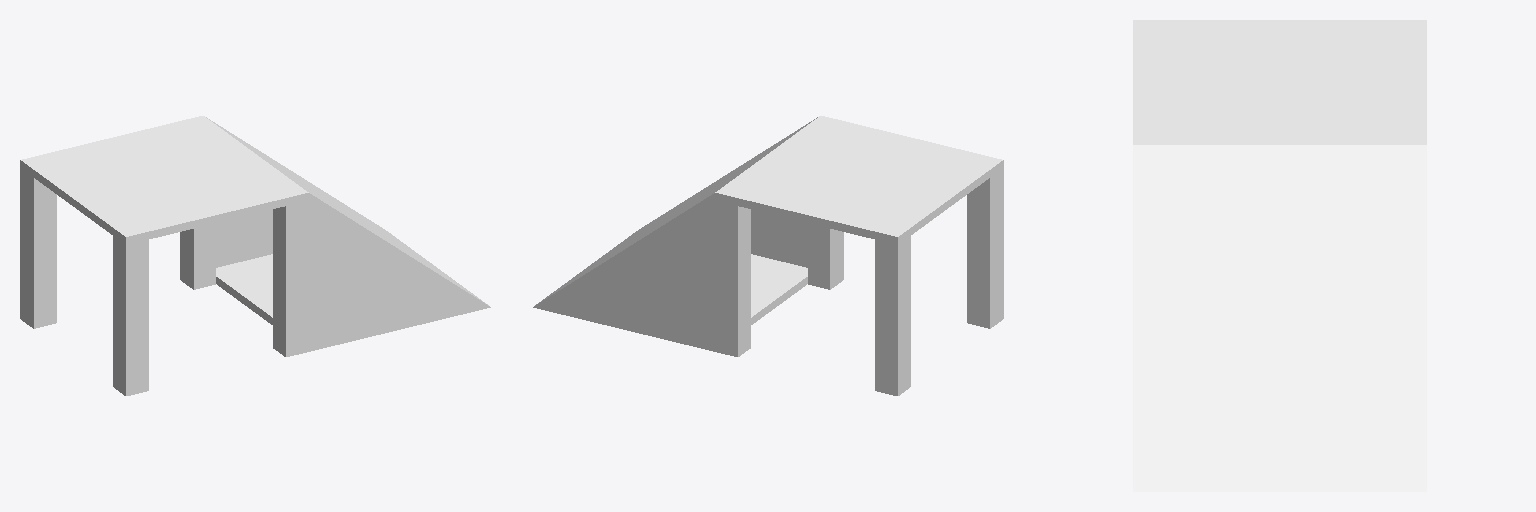
The robot description file, URDF, robot "model-slope":
<?xml version="1.0" encoding="utf-8"?>
<!-- This URDF was automatically created by SolidWorks to URDF Exporter! Originally created by [author] ([email redacted]) 
     Commit Version: 1.6.0-4-g7f85cfe  Build Version: 1.6.7995.38578
     For more information, please see http://wiki.ros.org/sw_urdf_exporter -->
<robot
  name="model-slope">
  <link
    name="base_link">
    <inertial>
      <origin
        xyz="1.2463 -0.6 0.47751"
        rpy="0 0 0" />
      <mass
        value="143.39" />
      <inertia
        ixx="45.301"
        ixy="-1.6662E-14"
        ixz="20.247"
        iyy="84.673"
        iyz="2.0075E-14"
        izz="91.354" />
    </inertial>
    <visual>
      <origin
        xyz="0 0 0"
        rpy="0 0 0" />
      <geometry>
        <mesh
          filename="package://model-slope/meshes/base_link.STL" />
      </geometry>
      <material
        name="">
        <color
          rgba="1 1 1 1" />
      </material>
    </visual>
    <collision>
      <origin
        xyz="0 0 0"
        rpy="0 0 0" />
      <geometry>
        <mesh
          filename="package://model-slope/meshes/base_link.STL" />
      </geometry>
    </collision>
  </link>
</robot>

--- Facts derived from the render (not from the file) ---
3 views of the same robot in one strip: view 1: azimuth 30°, elevation 25°; view 2: azimuth 150°, elevation 25°; view 3: azimuth 270°, elevation 25° (orthographic).
Robot: model-slope — 1 links, 0 joints (none); root link base_link; default pose: every joint at zero.
Visible links, largest first — view 1: base_link; view 2: base_link; view 3: base_link.
Boxes of the visible links, x1,y1,x2,y2 form: base_link: [20, 116, 490, 395]; base_link: [533, 116, 1003, 395]; base_link: [1133, 20, 1426, 491].
Size in the robot's own frame: 2.4 by 1.2 by 1 metres.
Meshes: 1 distinct files referenced, 1 mesh visuals loaded (1 binary STL).